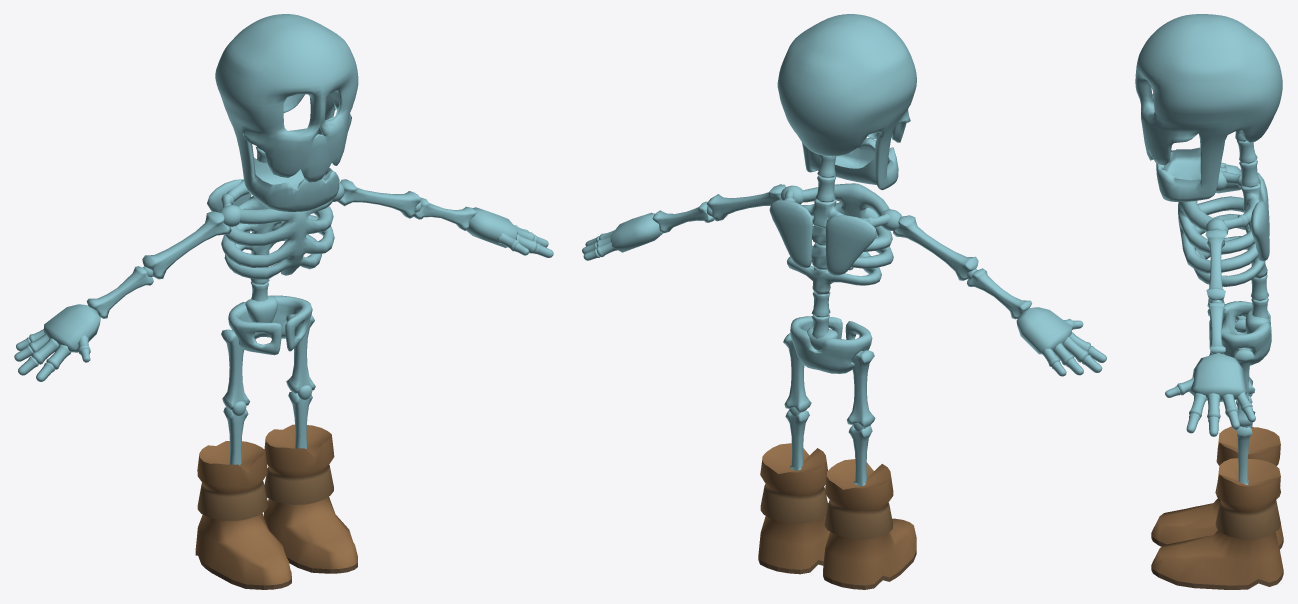
Rendered from El Borracho 1.fbx.
3 views of the same model, side by side, from view 1: azimuth 30°, elevation 25°; view 2: azimuth 150°, elevation 25°; view 3: azimuth 270°, elevation 25° (orthographic). The views are drawn at different scales.
Parts seen in each view (by area): view 1: polySurface67; view 2: polySurface67; view 3: polySurface67.
Part boxes in pixels (box(x1,y1,x2,y2)): polySurface67: box(14, 14, 553, 589); polySurface67: box(582, 14, 1106, 589); polySurface67: box(1135, 14, 1283, 589).
Size of the model in its own units: 22.46 by 22.02 by 5.49.
